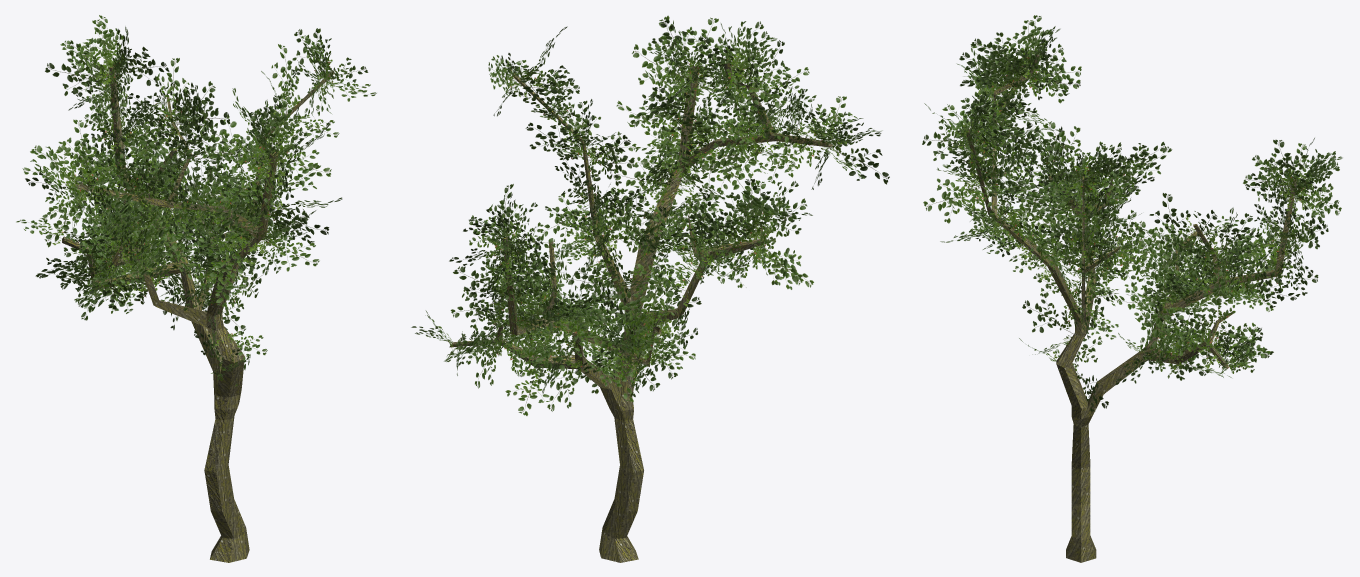
The picture shows the model from 3 angles, left to right: view 1: azimuth 30°, elevation 25°; view 2: azimuth 150°, elevation 25°; view 3: azimuth 270°, elevation 25°; orthographic projection. The views are drawn at different scales.
Visible parts, largest first — view 1: tronc, Tree Branch.058, Tree Branch.118, Tree Branch.114, Tree Branch.115, Tree Branch.189, Tree Branch.097, Tree Branch.120, Tree Branch.129, Tree Branch.297, Tree Branch.032, Tree Branch.051 (+19 smaller); view 2: tronc, Tree Branch.154, Tree Branch.114, Tree Branch.381, Tree Branch.045, Tree Branch.380, Tree Branch.084, Tree Branch.212, Tree Branch.222, Tree Branch.315, Tree Branch.003, Tree Branch.252 (+5 smaller); view 3: tronc, Tree Branch.024, Tree Branch.091, Tree Branch.072, Tree Branch.065, Tree Branch.248, Tree Branch.005, Tree Branch.266, Tree Branch.208, Tree Branch.313, Tree Branch.181, Tree Branch.271 (+8 smaller).
Part boxes in pixels (x1,y1,x2,y2): tronc: [62, 66, 334, 562]; Tree Branch.058: [202, 130, 270, 177]; Tree Branch.118: [74, 172, 140, 222]; Tree Branch.114: [44, 187, 98, 247]; Tree Branch.115: [62, 119, 102, 186]; Tree Branch.189: [45, 51, 111, 101]; Tree Branch.097: [208, 234, 264, 283]; Tree Branch.120: [30, 141, 90, 202]; Tree Branch.129: [169, 146, 230, 202]; Tree Branch.297: [123, 122, 167, 187]; Tree Branch.032: [271, 44, 303, 116]; Tree Branch.051: [222, 164, 282, 207]; tronc: [449, 63, 832, 562]; Tree Branch.154: [727, 53, 786, 110]; Tree Branch.114: [814, 135, 889, 184]; Tree Branch.381: [612, 287, 671, 337]; Tree Branch.045: [632, 41, 704, 96]; Tree Branch.380: [591, 312, 656, 371]; Tree Branch.084: [614, 157, 681, 202]; Tree Branch.212: [712, 182, 769, 245]; Tree Branch.222: [635, 264, 674, 334]; Tree Branch.315: [597, 215, 668, 256]; Tree Branch.003: [525, 121, 596, 160]; Tree Branch.252: [510, 334, 571, 384]; tronc: [966, 54, 1296, 562]; Tree Branch.024: [1041, 121, 1092, 191]; Tree Branch.091: [991, 180, 1056, 230]; Tree Branch.072: [969, 135, 1020, 196]; Tree Branch.065: [923, 170, 980, 223]; Tree Branch.248: [1138, 308, 1191, 370]; Tree Branch.005: [1072, 193, 1126, 245]; Tree Branch.266: [1160, 319, 1212, 368]; Tree Branch.208: [1022, 293, 1073, 345]; Tree Branch.313: [1118, 235, 1174, 291]; Tree Branch.181: [1243, 160, 1293, 202]; Tree Branch.271: [1200, 269, 1238, 325].
Bounding box in the file's own units: 25.94 × 35.63 × 27.99.
Materials: 2 (2 with a texture image).
